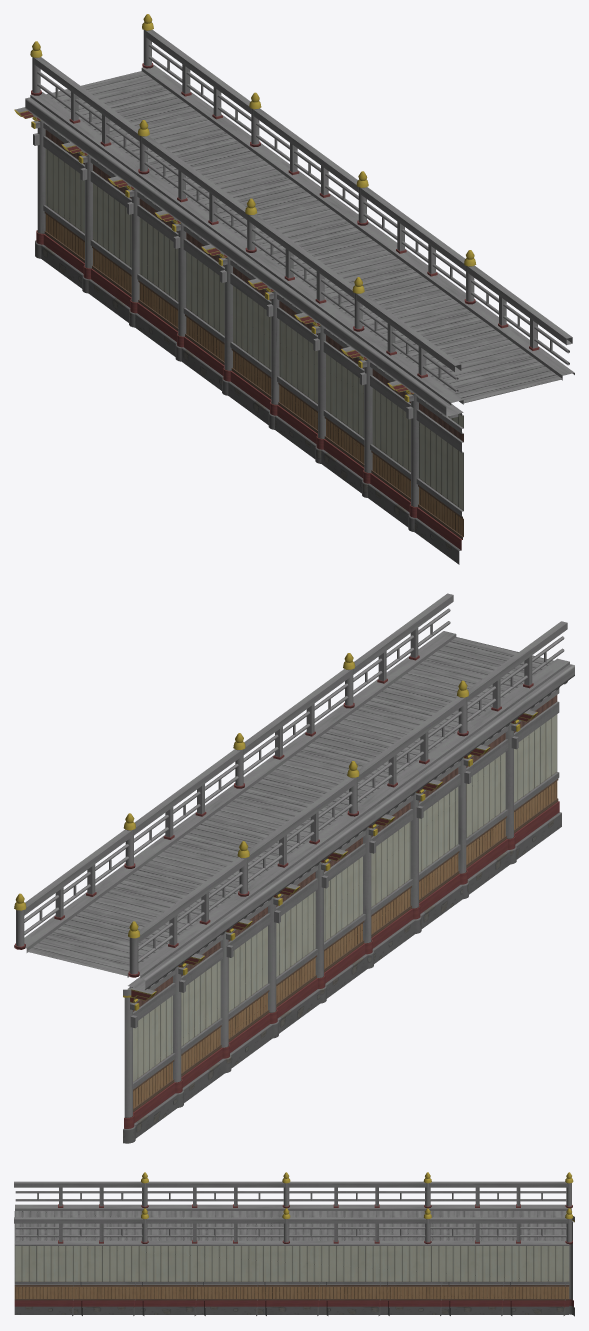
The model's file is SM_ENV_LKNVLD_WallSet_Straight.FBX.
3 renders of one model, top to bottom at view 1: azimuth 30°, elevation 25°; view 2: azimuth 150°, elevation 25°; view 3: azimuth 270°, elevation 25°, orthographic. The views are drawn at different scales.
Parts seen in each view (by area): view 1: SM_ENV_LKNVLD_WallSet_Straight; view 2: SM_ENV_LKNVLD_WallSet_Straight; view 3: SM_ENV_LKNVLD_WallSet_Straight.
Part boxes in pixels (x1,y1,x2,y2): SM_ENV_LKNVLD_WallSet_Straight: [14, 14, 574, 564]; SM_ENV_LKNVLD_WallSet_Straight: [14, 593, 574, 1143]; SM_ENV_LKNVLD_WallSet_Straight: [14, 1172, 574, 1316].
Size of the model in its own units: 558 by 833 by 2987.
